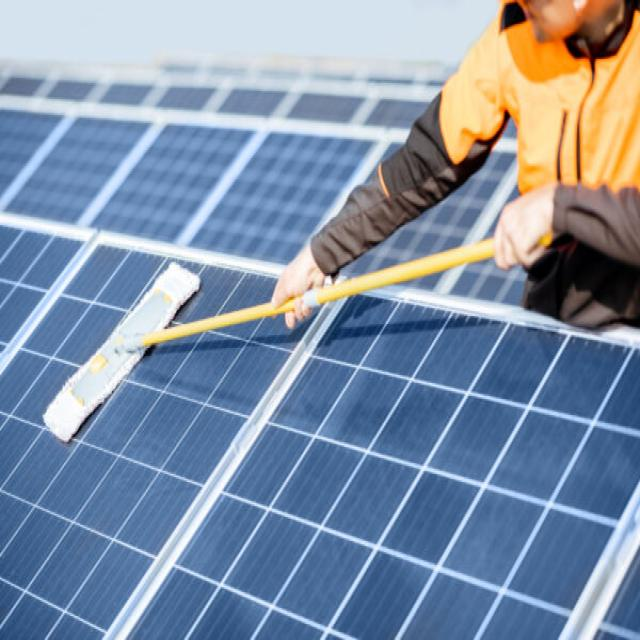dust-solar-panel: (1, 69, 640, 638)
